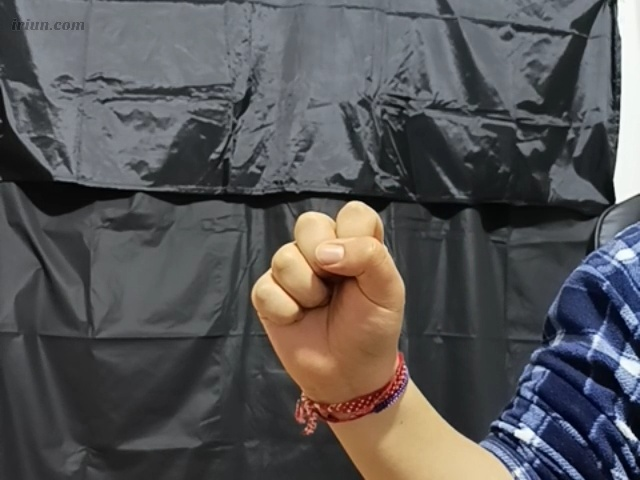S: (251, 202, 413, 389)
